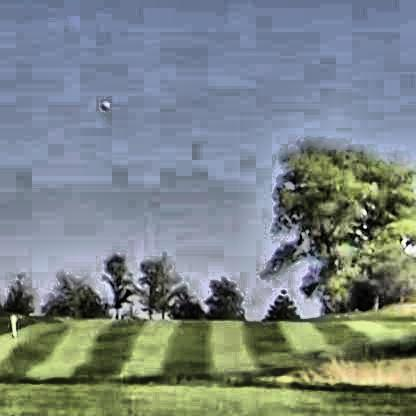golfball: (98, 99, 108, 108)
